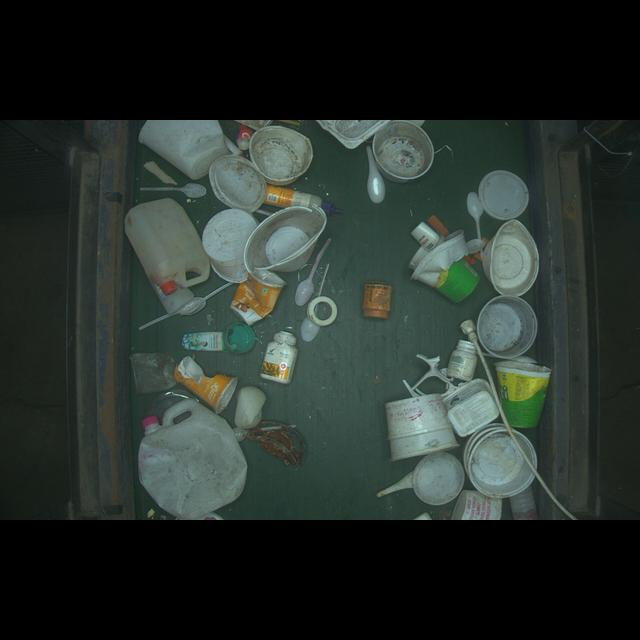mix PP: (131, 398, 249, 514), (494, 360, 548, 431), (259, 326, 300, 384), (265, 185, 344, 212), (363, 280, 392, 326)
